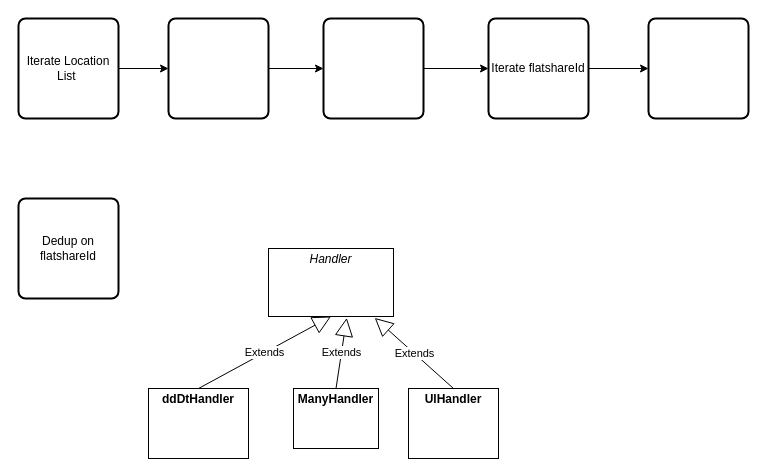
The diagram is 766 pixels wide and 476 high, and some of its shapes have lost their labels. Each missing label, with the centre of its shape:
Extract listing page: the point at 373,68
Get and extract flatshare: the point at 698,68
Search Location: the point at 218,68
